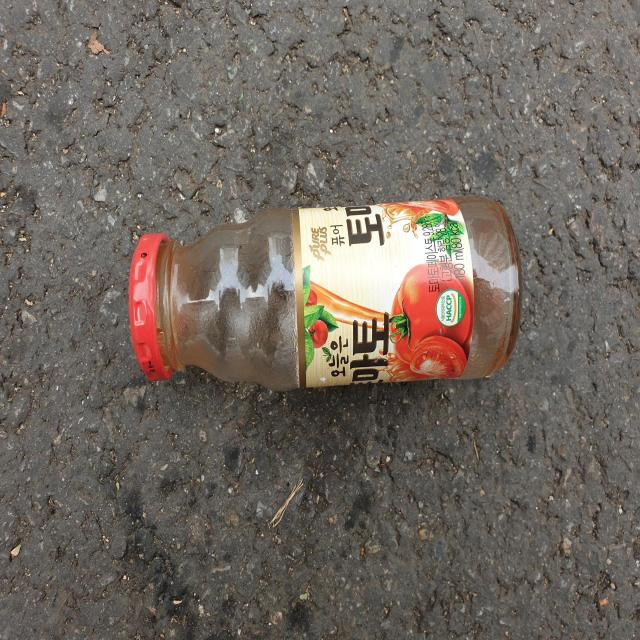glass: (129, 196, 522, 390)
